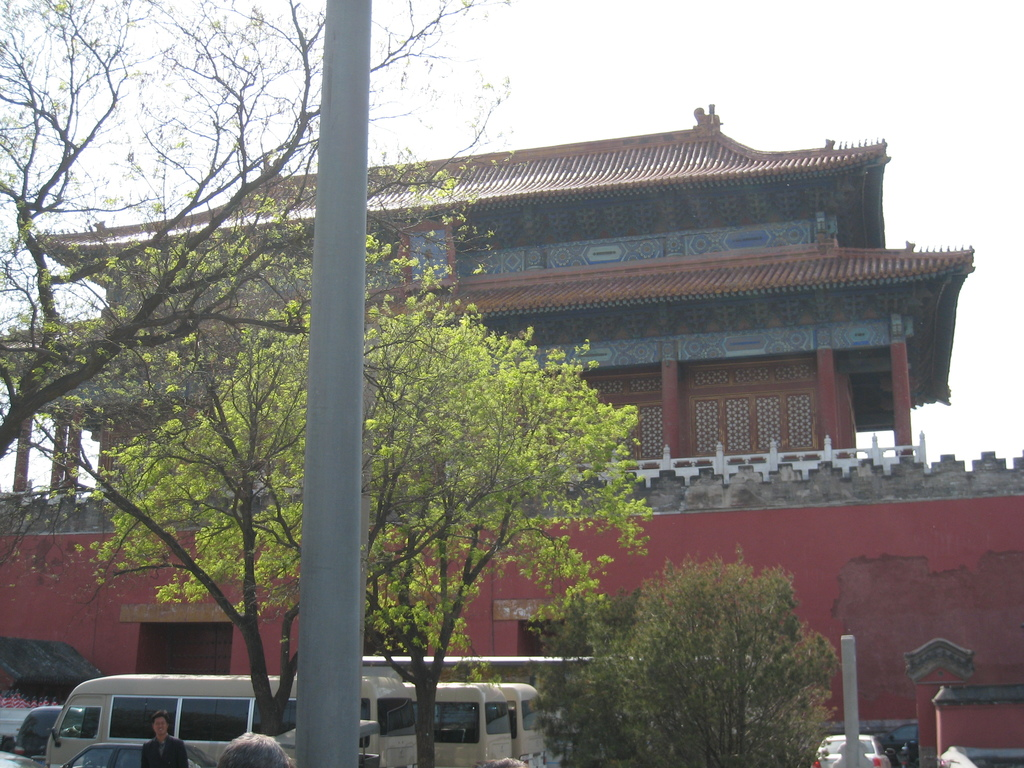Bus: (42, 675, 418, 767), (410, 677, 552, 767)
